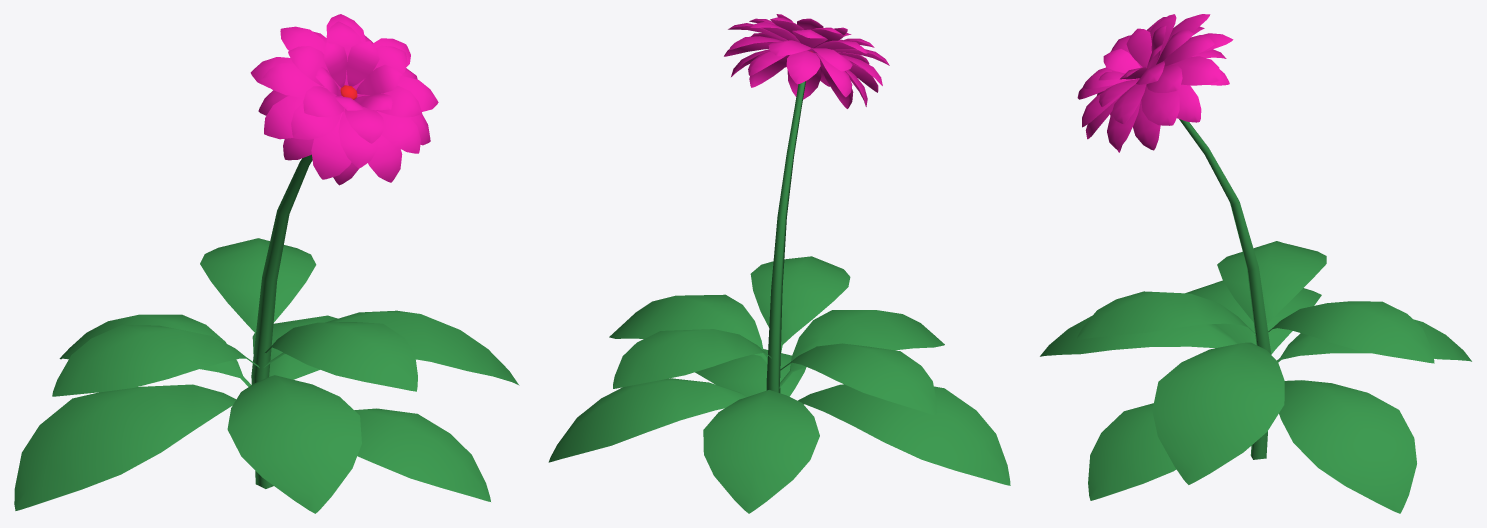
Rendered from flowerb.glb.
3 renders of one model, left to right at view 1: azimuth 30°, elevation 25°; view 2: azimuth 150°, elevation 25°; view 3: azimuth 270°, elevation 25°, orthographic. The views are drawn at different scales.
Parts seen in each view (by area): view 1: Flower_A_12, Flower_A_1, Flower_A_5, Flower_A_6, Flower_A_2, Flower_A_8, Flower_A_9, Flower_A_4, Flower_A_10, Flower_A_7, Flower_A_3; view 2: Flower_A_7, Flower_A_1, Flower_A_12, Flower_A_3, Flower_A_6, Flower_A_9, Flower_A_8, Flower_A_5, Flower_A_4, Flower_A_10, Flower_A_2; view 3: Flower_A_4, Flower_A_12, Flower_A_3, Flower_A_9, Flower_A_2, Flower_A_8, Flower_A_6, Flower_A_5, Flower_A_10, Flower_A_1, Flower_A_7.
Boxes of the visible parts, x1,y1,x2,y2 form: Flower_A_12: (250,14,438,185); Flower_A_1: (14,384,236,510); Flower_A_5: (227,375,361,513); Flower_A_6: (52,325,259,396); Flower_A_2: (354,408,490,501); Flower_A_8: (265,322,417,391); Flower_A_9: (200,238,316,333); Flower_A_4: (264,310,519,385); Flower_A_10: (251,154,312,488); Flower_A_7: (59,314,251,386); Flower_A_3: (252,315,337,379); Flower_A_7: (703,390,819,513); Flower_A_1: (798,384,1010,485); Flower_A_12: (724,14,889,108); Flower_A_3: (548,378,747,462); Flower_A_6: (779,343,936,415); Flower_A_9: (613,329,771,388); Flower_A_8: (750,256,850,354); Flower_A_5: (779,310,944,388); Flower_A_4: (609,294,767,363); Flower_A_10: (766,81,805,392); Flower_A_2: (695,349,806,396); Flower_A_4: (1152,342,1284,484); Flower_A_12: (1077,14,1233,152); Flower_A_3: (1279,380,1416,513); Flower_A_9: (1268,301,1434,363); Flower_A_2: (1088,403,1176,500); Flower_A_8: (1076,291,1255,339); Flower_A_6: (1217,241,1326,324); Flower_A_5: (1040,316,1237,356); Flower_A_10: (1179,119,1271,459); Flower_A_1: (1185,280,1321,354); Flower_A_7: (1277,319,1471,362).
Bounding box in the file's own units: 0.8893 × 0.8605 × 0.7679.
1 material, 1 textured.
